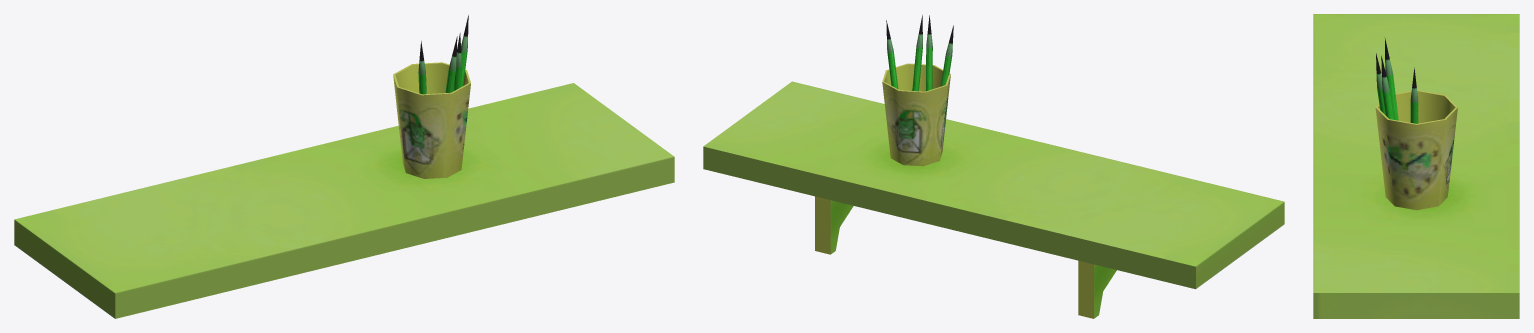
The model's file is furni_0200143_02.FBX.
The picture shows the model from 3 angles, left to right: view 1: azimuth 30°, elevation 25°; view 2: azimuth 150°, elevation 25°; view 3: azimuth 270°, elevation 25°; orthographic projection. The views are drawn at different scales.
Parts seen in each view (by area): view 1: furni_0200143_02; view 2: furni_0200143_02; view 3: furni_0200143_02.
Part boxes in pixels (x1,y1,x2,y2): furni_0200143_02: [14, 15, 674, 318]; furni_0200143_02: [703, 14, 1284, 318]; furni_0200143_02: [1313, 14, 1519, 318].
Size of the model in its own units: 67.03 by 26.6 by 20.95.
Materials: 1 (1 with a texture image).
